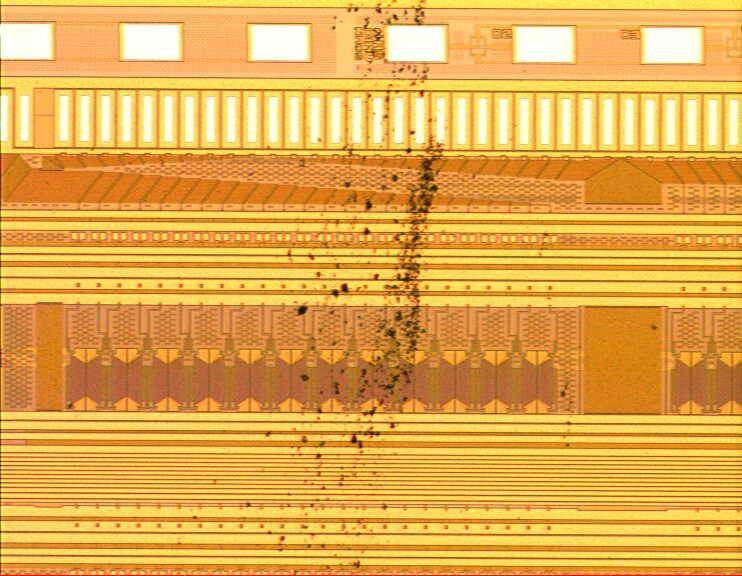PO CONTAMINATION: (184, 1, 667, 575)
